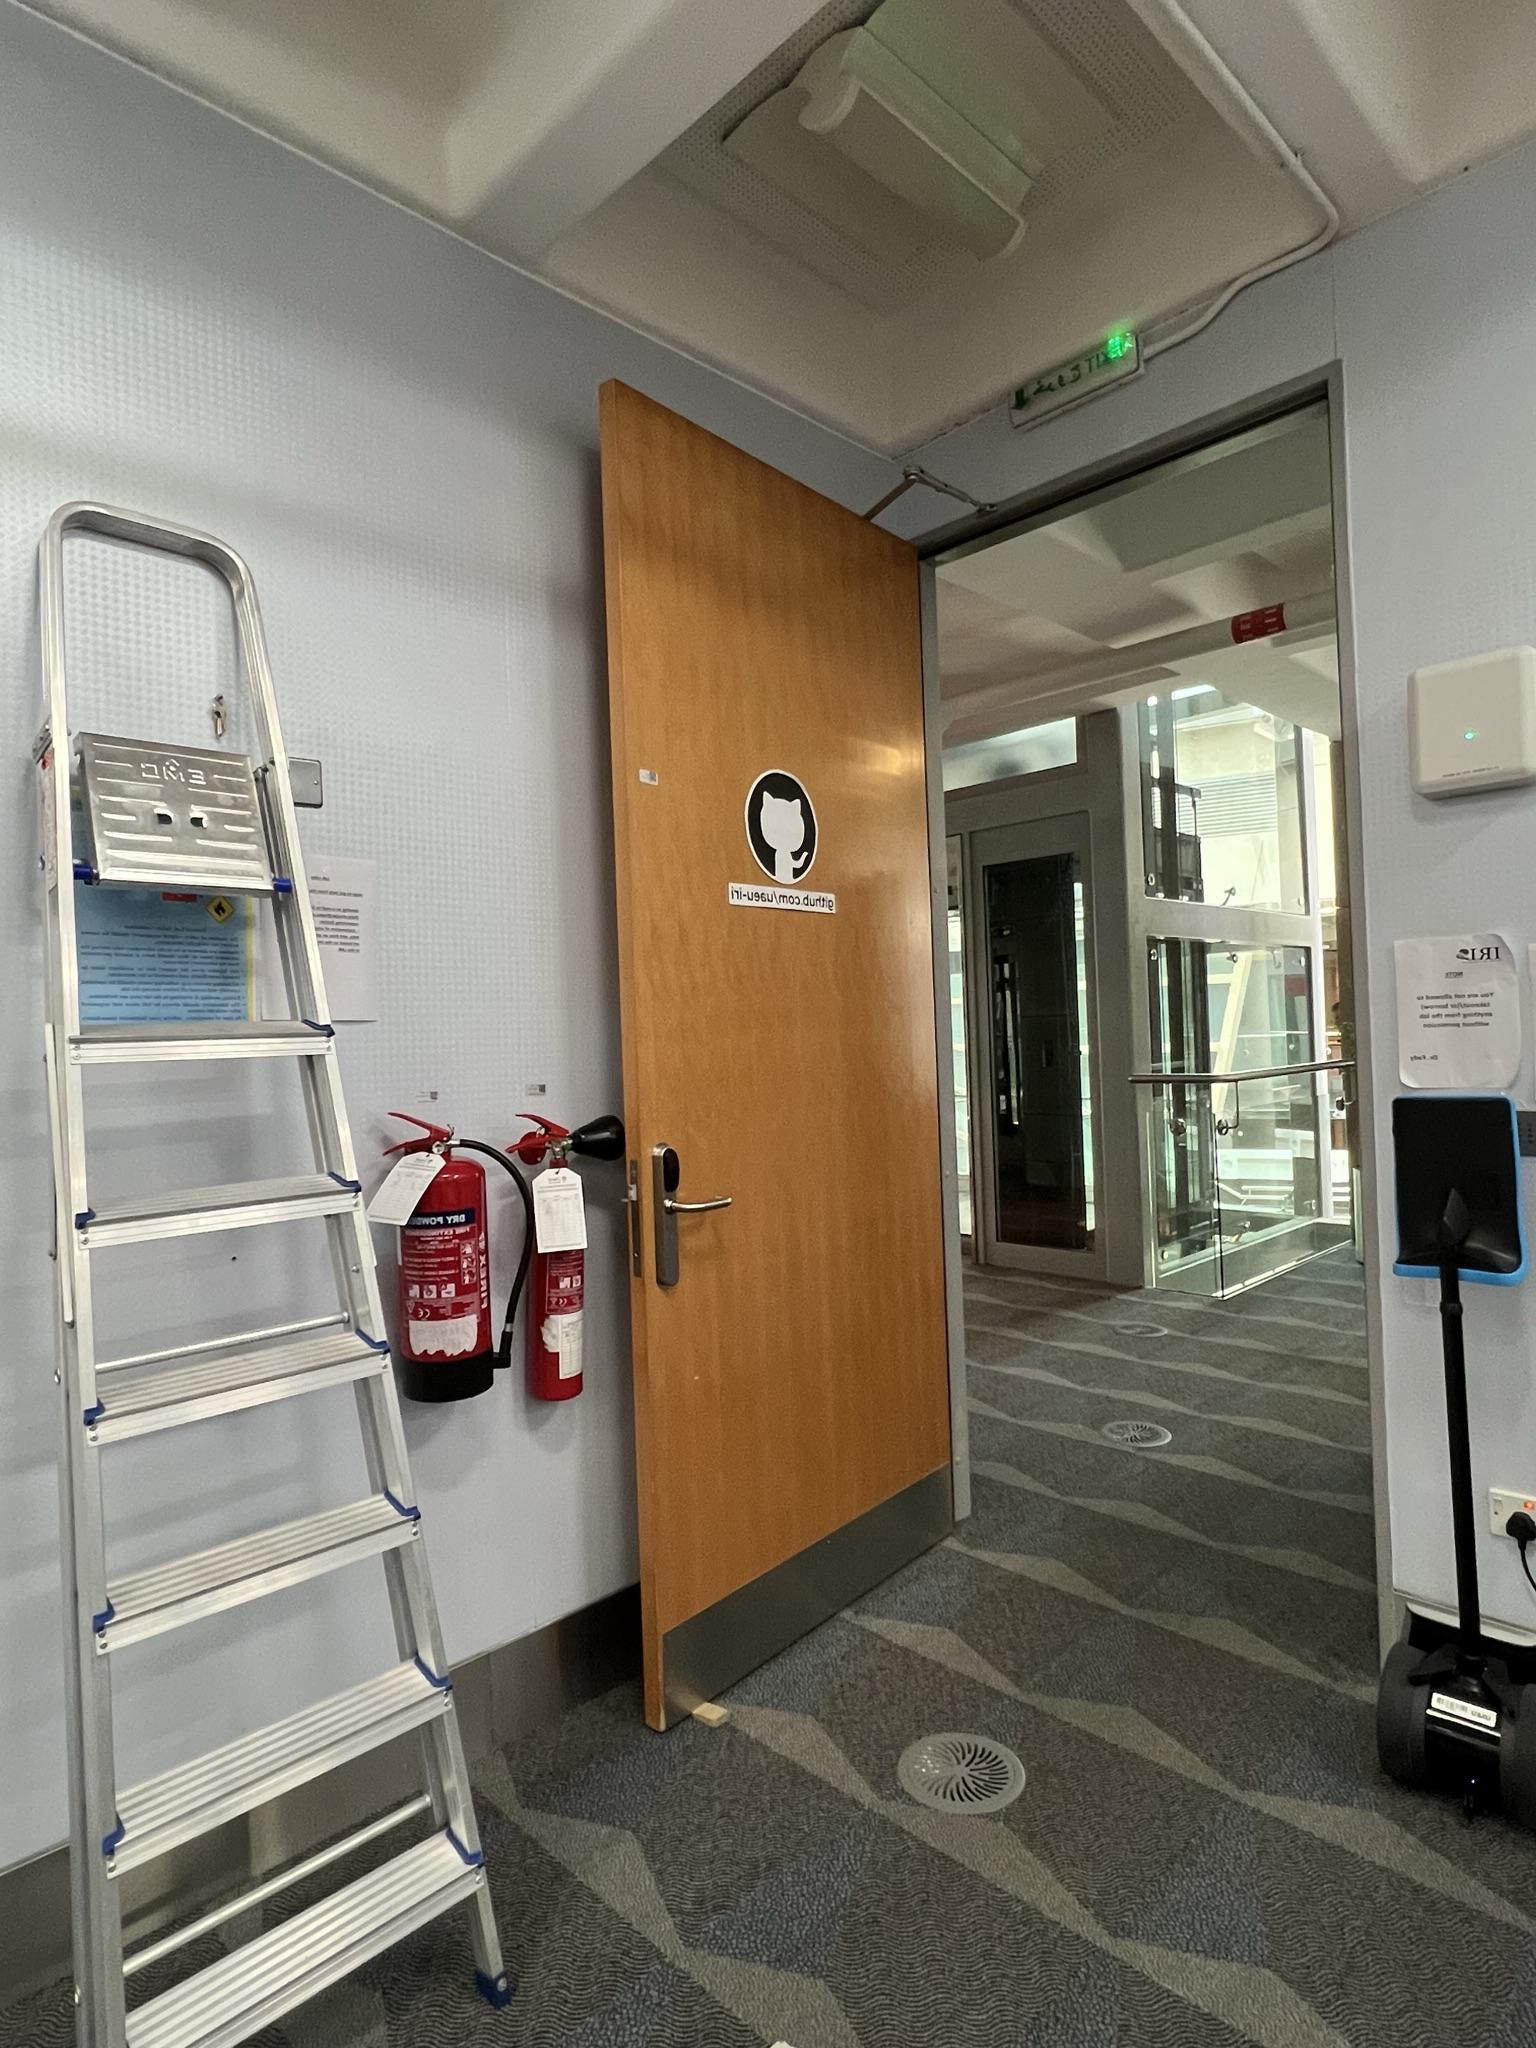door: (623, 476, 934, 1709)
handle: (650, 1135, 734, 1290)
